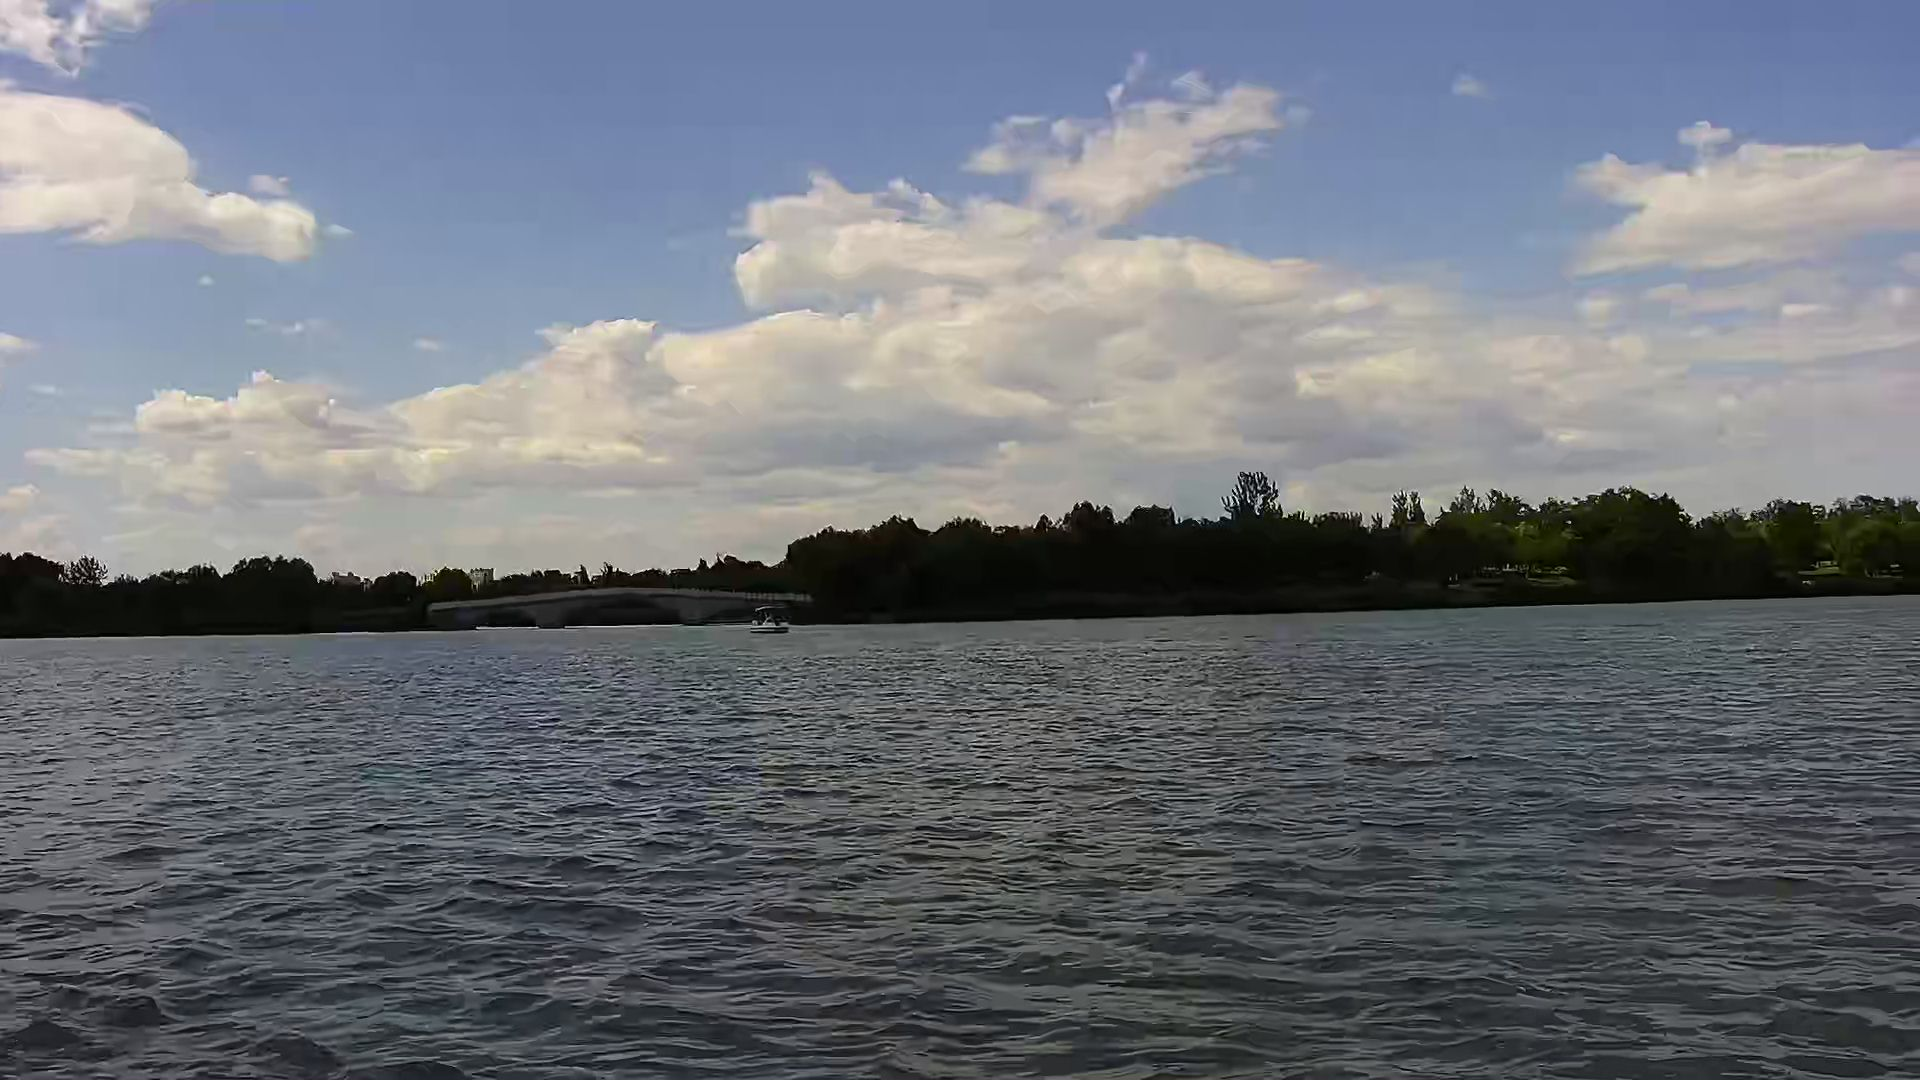boat: (750, 604, 791, 636)
bridge: (425, 589, 812, 632)
